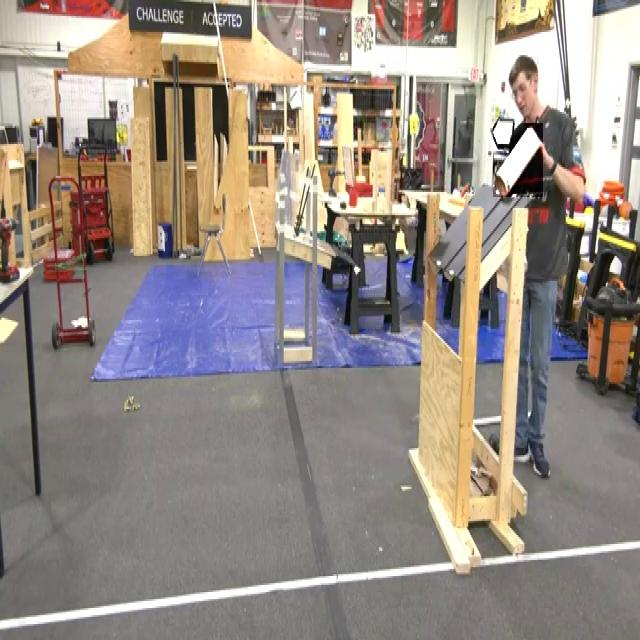Coral: (493, 123, 543, 197)
